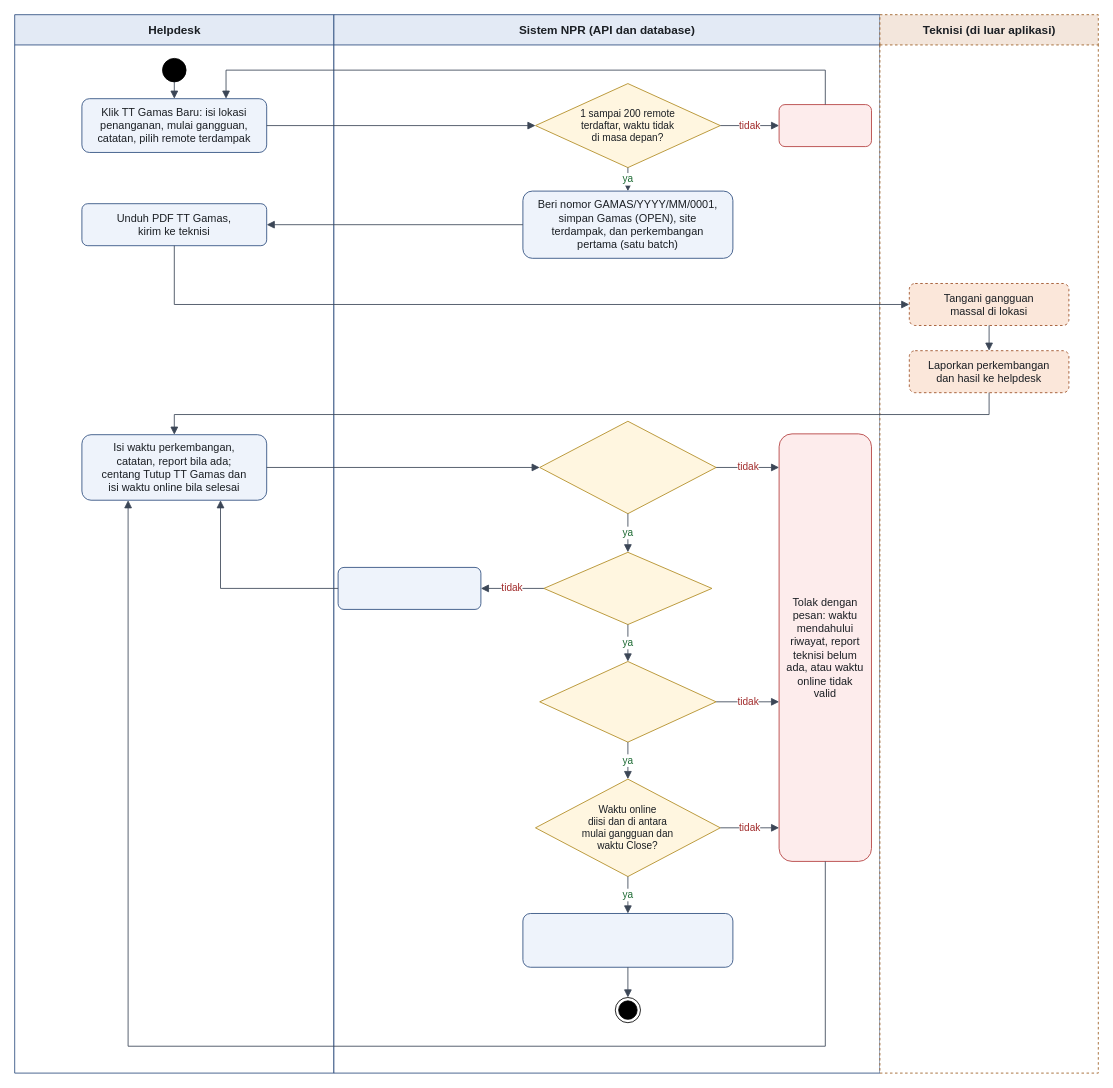
Image size: 1113x1088. Some labels were removed from this diagram. Here are the shapes that lost their labels. From the top down, the centre of each, then its label:
point (825, 125): Tolak dengan pesan
point (627, 467): Waktu tidak mendahului perkembangan terakhir?
point (409, 588): Simpan perkembangan, status IN PROGRESS
point (627, 588): Tutup TT Gamas dicentang?
point (627, 701): Report teknisi ada (baru atau sebelumnya)?
point (627, 940): Simpan perkembangan, status CLOSED, online_at dan closed_at (satu batch)
